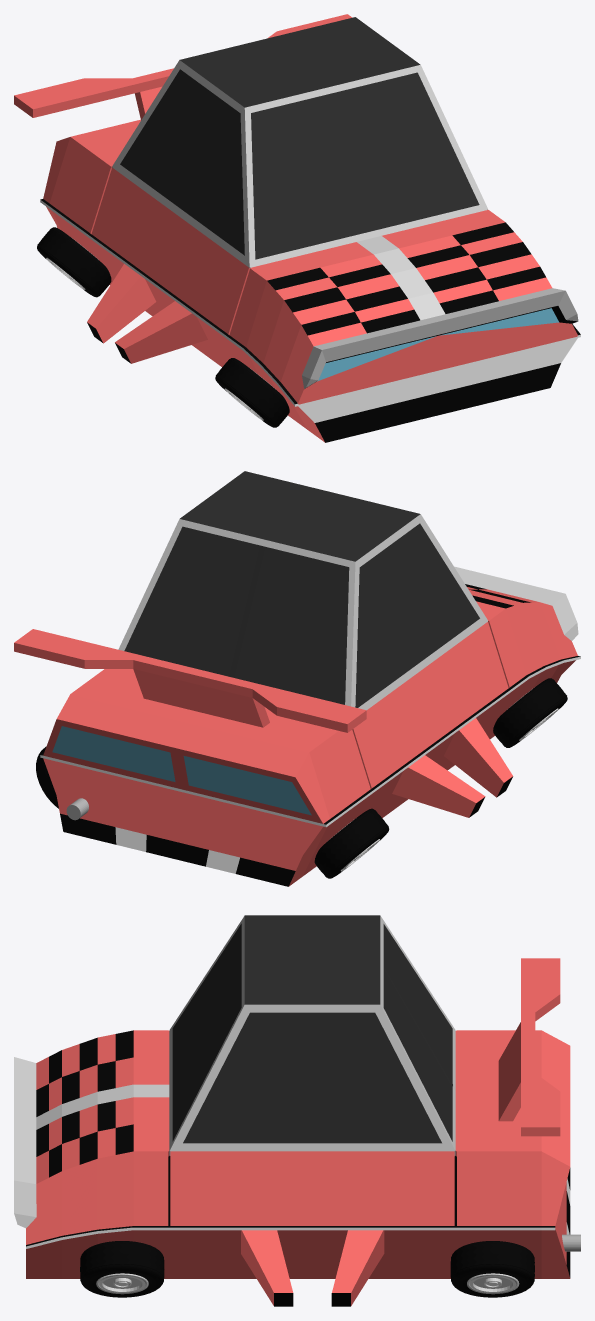
3 views of the same model, one above another, from view 1: azimuth 30°, elevation 25°; view 2: azimuth 150°, elevation 25°; view 3: azimuth 270°, elevation 25° (orthographic). The views are drawn at different scales.
Visible parts, largest first — view 1: Body50A, WHEEL.003, WHEEL.002; view 2: Body50A, WHEEL.003, WHEEL.002, WHEEL.001; view 3: Body50A, WHEEL.004, WHEEL.001.
Part boxes in pixels (left/top/right/bottom): Body50A: left=14, top=14, right=580, bottom=442; WHEEL.003: left=37, top=227, right=111, bottom=297; WHEEL.002: left=215, top=358, right=289, bottom=427; Body50A: left=14, top=471, right=580, bottom=886; WHEEL.003: left=314, top=808, right=389, bottom=878; WHEEL.002: left=493, top=678, right=567, bottom=747; WHEEL.001: left=36, top=746, right=58, bottom=808; Body50A: left=14, top=915, right=570, bottom=1306; WHEEL.004: left=80, top=1241, right=164, bottom=1297; WHEEL.001: left=450, top=1241, right=534, bottom=1297.
Bounding box in the file's own units: 172 × 112 × 209.
